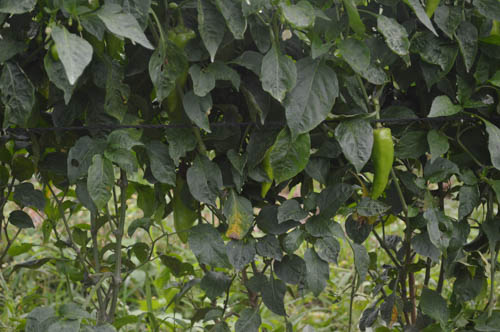ChiliPepper: (370, 127, 395, 204), (172, 172, 190, 249)
